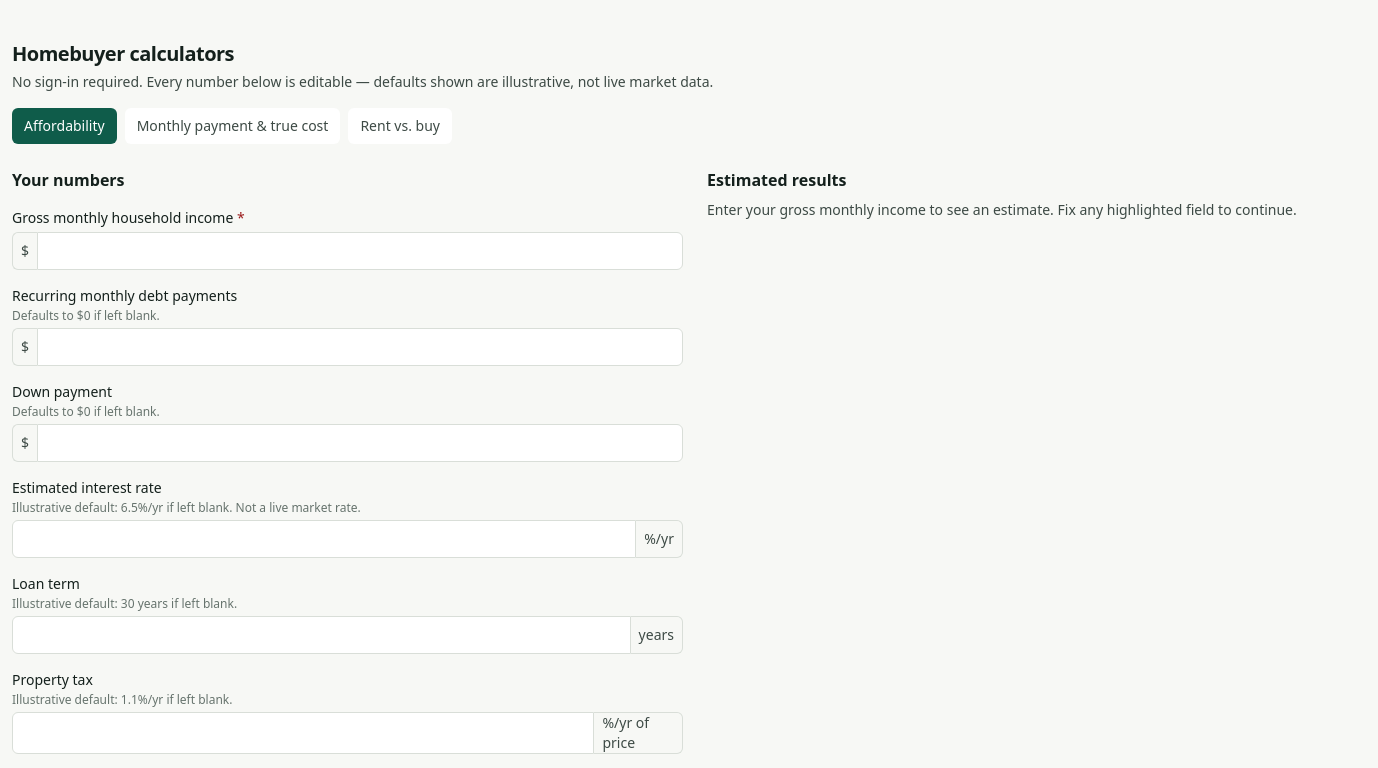
Test: CalculatorsSection accessibility › computes a result entirely client-side (no network request) once valid input is entered
The image size is (1378, 768).
Type "10000" into the number field labelled "Gross monthly household income *". click: (360, 251)
box: [37,232,683,270]
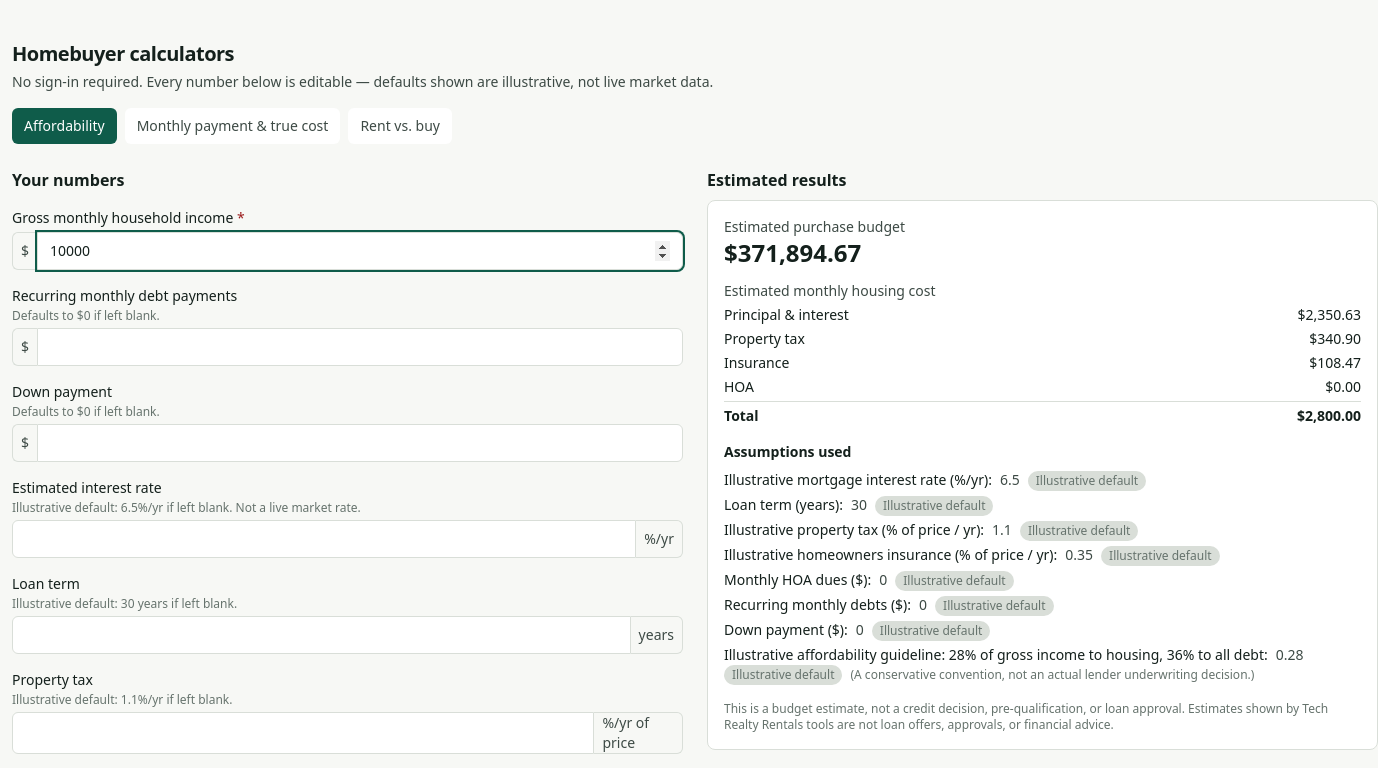
Expected: the text "Estimated purchase budget" is shown, [724,217,905,236]
